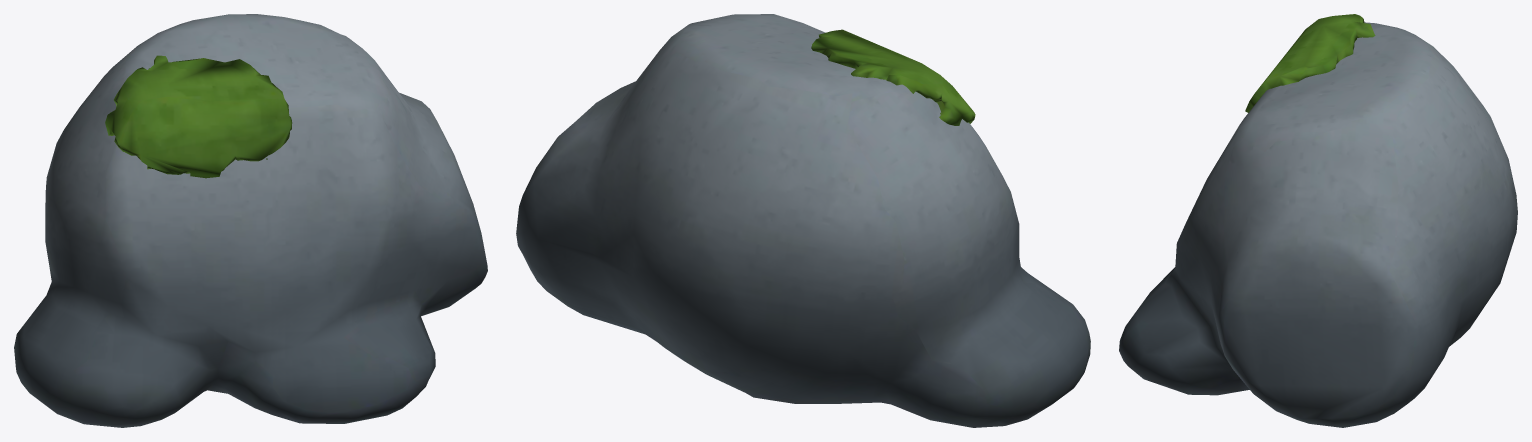
File: boulder.glb
The picture shows the model from 3 angles, left to right: view 1: azimuth 30°, elevation 25°; view 2: azimuth 150°, elevation 25°; view 3: azimuth 270°, elevation 25°; orthographic projection. The views are drawn at different scales.
Parts seen in each view (by area): view 1: stone; view 2: stone; view 3: stone.
Boxes of the visible parts, x1,y1,x2,y2 form: stone: (14, 14, 487, 427); stone: (516, 14, 1090, 427); stone: (1119, 14, 1517, 427).
Size of the model in its own units: 1.24 by 0.7764 by 0.9552.
Materials: 1 (1 with a texture image).
